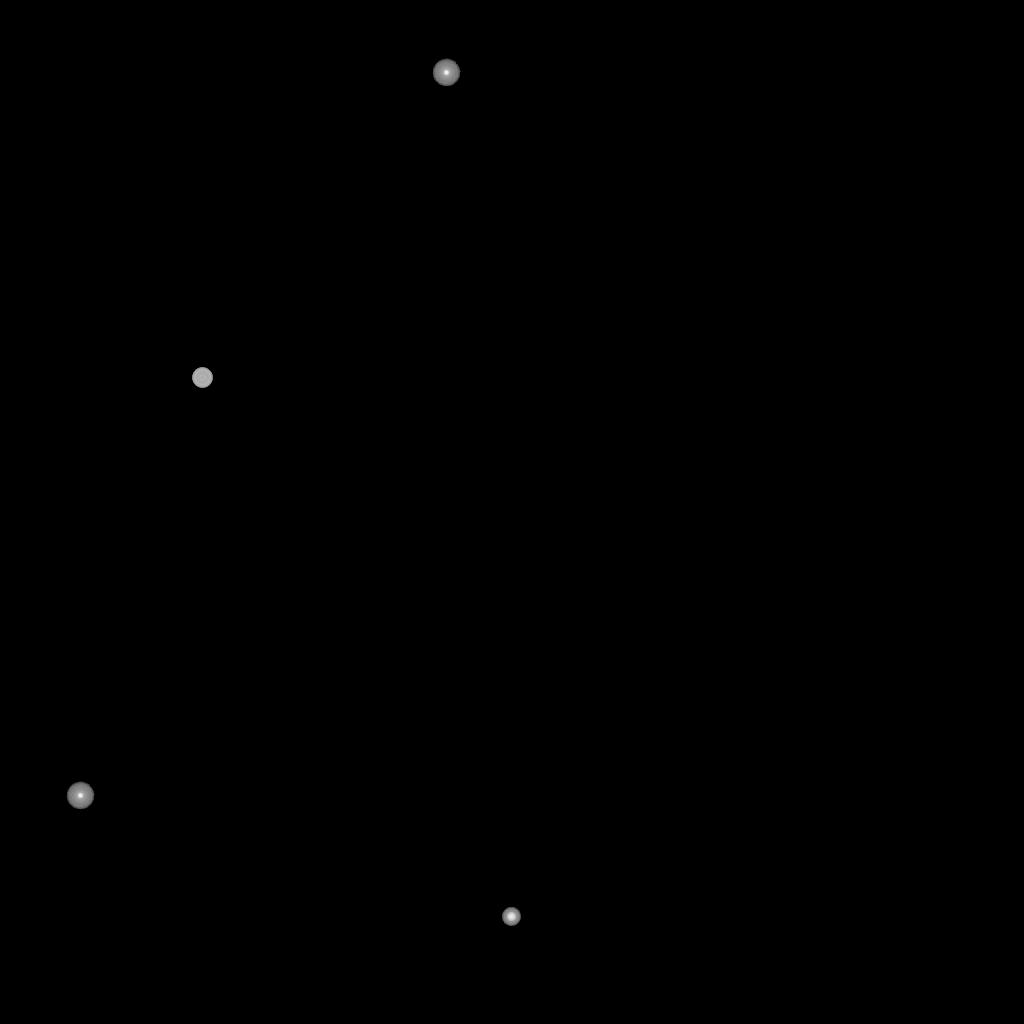depth:-10: (66, 782, 94, 810), (432, 59, 460, 87)
depth:-20: (502, 908, 520, 926)
depth:-40: (192, 368, 212, 388)
